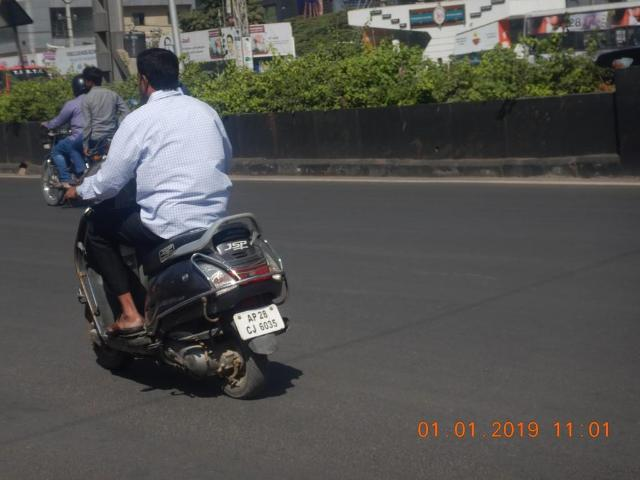helm: (71, 74, 91, 99)
motor: (53, 174, 294, 405), (36, 120, 124, 209)
non-helm: (136, 44, 184, 105), (83, 67, 105, 89)
